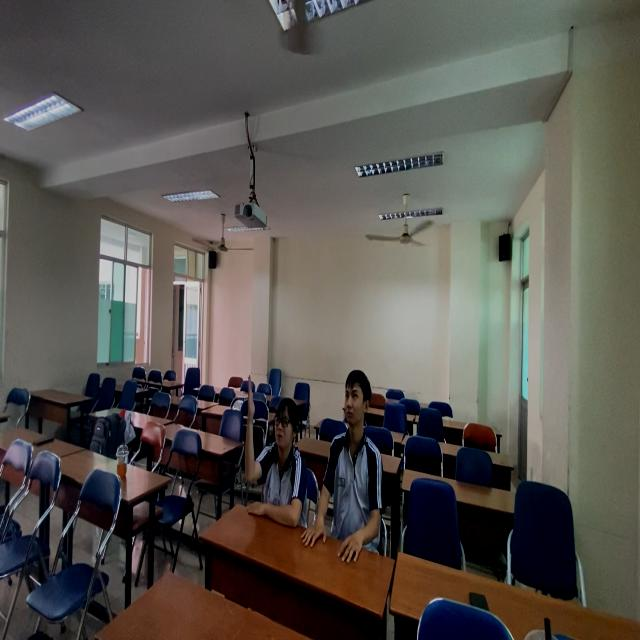raise_hand: (238, 369, 311, 529)
